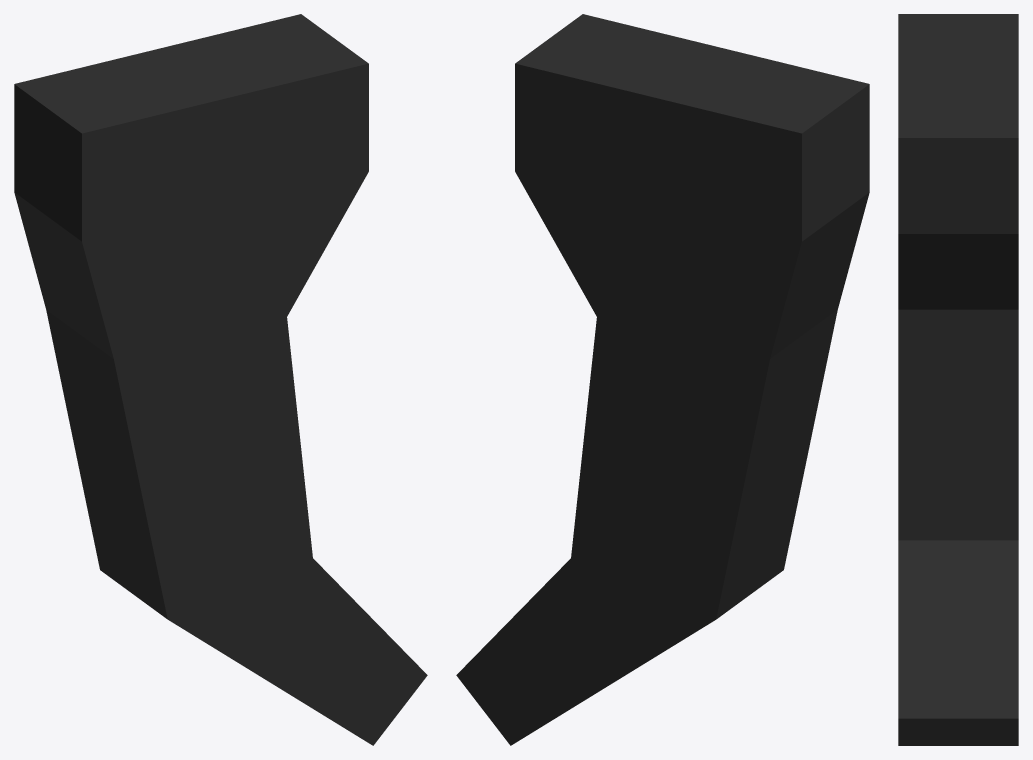
The model's file is SMG6_06_3.fbx.
3 views of the same model, side by side, from view 1: azimuth 30°, elevation 25°; view 2: azimuth 150°, elevation 25°; view 3: azimuth 270°, elevation 25° (orthographic). The views are drawn at different scales.
Visible parts, largest first — view 1: SMG6_06_3; view 2: SMG6_06_3; view 3: SMG6_06_3.
Part boxes in pixels (box(x1,y1,x2,y2)): SMG6_06_3: box(14, 14, 427, 745); SMG6_06_3: box(456, 14, 869, 745); SMG6_06_3: box(898, 14, 1018, 745).
Bounding box in the file's own units: 0.0165 × 0.0312 × 0.0056.
